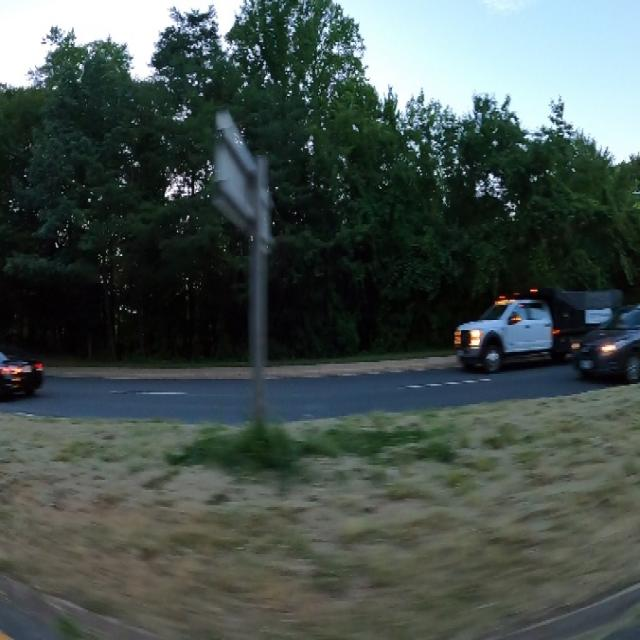cars: (444, 283, 620, 373), (577, 302, 640, 398), (0, 328, 46, 419)
